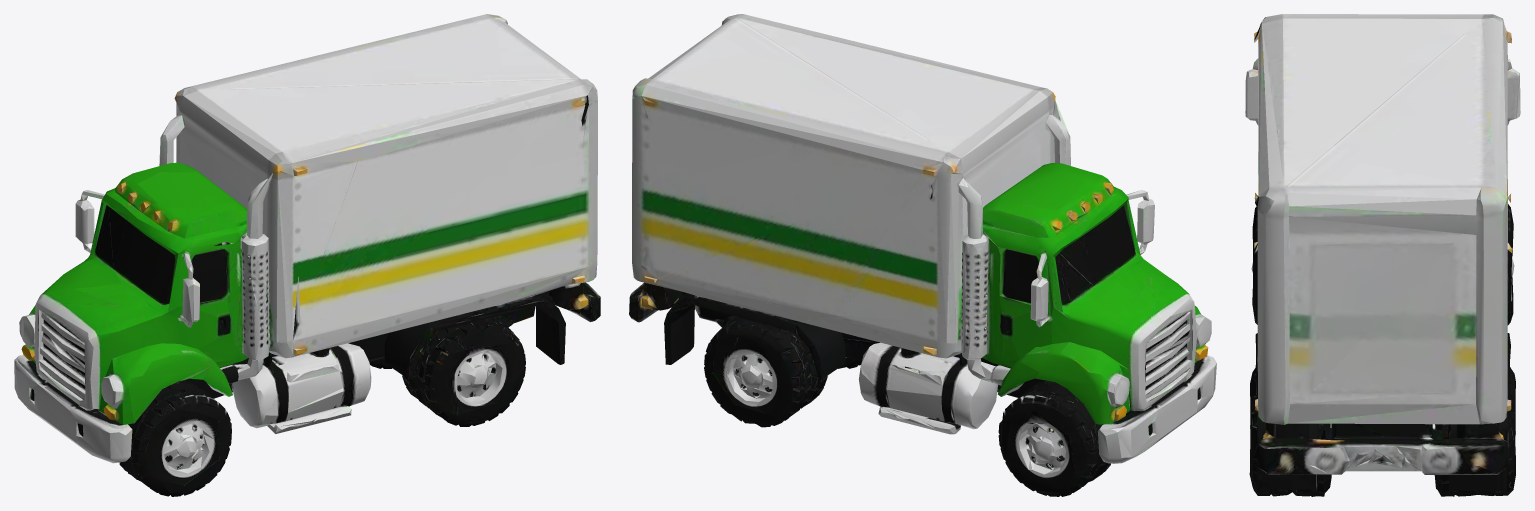
Rendered from caminhao.m.glb.
3 renders of one model, left to right at view 1: azimuth 30°, elevation 25°; view 2: azimuth 150°, elevation 25°; view 3: azimuth 270°, elevation 25°, orthographic. The views are drawn at different scales.
Visible parts, largest first — view 1: output_unwrapped; view 2: output_unwrapped; view 3: output_unwrapped.
Part boxes in pixels (left/top/right/bottom): output_unwrapped: left=14, top=14, right=600, bottom=496; output_unwrapped: left=629, top=14, right=1216, bottom=496; output_unwrapped: left=1245, top=14, right=1520, bottom=496.
Size of the model in its own units: 1.9 by 1.13 by 0.7712.
1 material, 1 textured.
